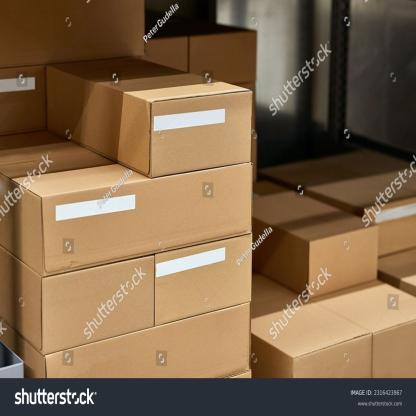box: (43, 164, 253, 276), (43, 303, 250, 378), (42, 255, 154, 356), (157, 233, 255, 330), (147, 94, 254, 174), (308, 226, 379, 297)
